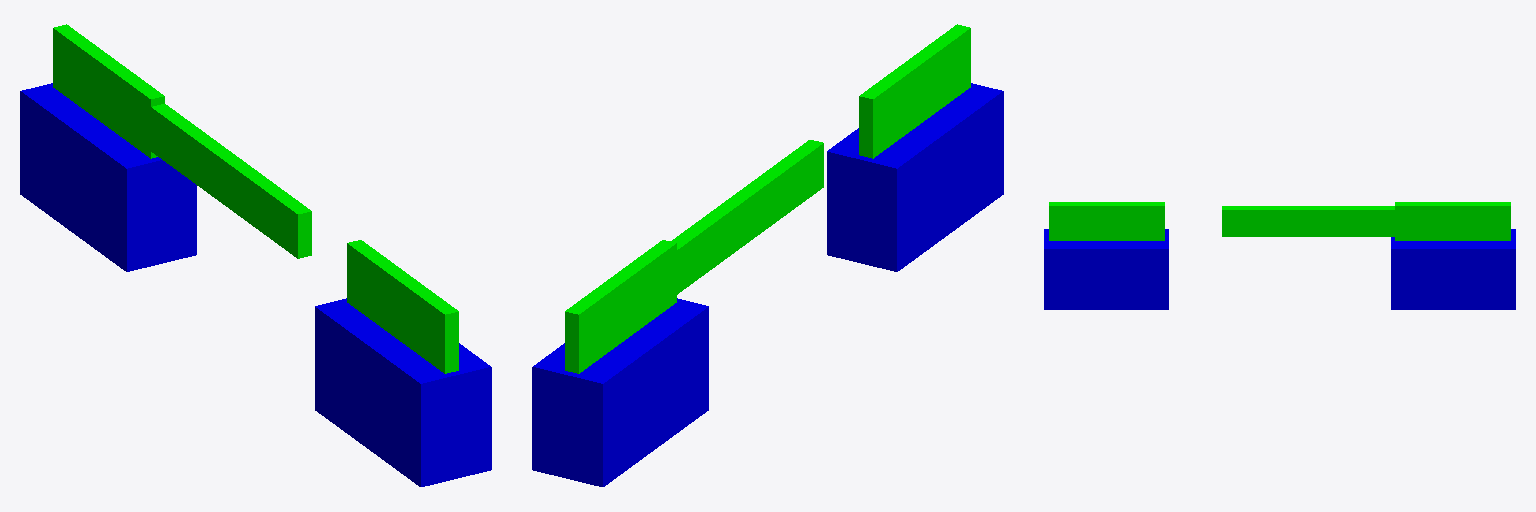
robot.urdf — robot:
<robot name = "robot">
    <link name="root">
        <inertial>
            <origin xyz="0.0 0.0 1.5" rpy="0 0 0"/>
            <mass value="1" />
            <inertia ixx="100" ixy="0" ixz="0" iyy="100" iyz="0" izz="100" />
        </inertial>
        <visual>
            <origin xyz="0.0 0.0 1.5" rpy="0 0 0"/>
            <geometry>
                <box size="0 0 0.0001" />
            </geometry>
            <material name="Green">
                <color rgba="0 1.0 0.0 1.0"/>
            </material>
        </visual>
        <collision>
            <origin xyz="0.0 0.0 1.5" rpy="0 0 0"/>
            <geometry>
                <box size="0 0 0.0001" />
            </geometry>
        </collision>
    </link>
    <joint name="root_000" type="revolute">
       <parent link="root"/>
       <child  link="000"/>
       <origin rpy="0 0 0" xyz="0.0 0.0 1.5" />
     <axis xyz="1 0 0"/>
       <limit effort="0.0" lower="-3.14159" upper="3.14159" velocity="0.0"/>
    </joint>
    <link name="000">
        <inertial>
            <origin xyz="0.0 0.3 0.0" rpy="0 0 0"/>
            <mass value="1" />
            <inertia ixx="100" ixy="0" ixz="0" iyy="100" iyz="0" izz="100" />
        </inertial>
        <visual>
            <origin xyz="0.0 0.3 0.0" rpy="0 0 0"/>
            <geometry>
                <box size="0.1 0.6 0.3" />
            </geometry>
            <material name="Green">
                <color rgba="0 1.0 0.0 1.0"/>
            </material>
        </visual>
        <collision>
            <origin xyz="0.0 0.3 0.0" rpy="0 0 0"/>
            <geometry>
                <box size="0.1 0.6 0.3" />
            </geometry>
        </collision>
    </link>
    <joint name="000_010" type="revolute">
       <parent link="000"/>
       <child  link="010"/>
       <origin rpy="0 0 0" xyz="0.0 0.6 -0.0" />
     <axis xyz="0 1 0"/>
       <limit effort="0.0" lower="-3.14159" upper="3.14159" velocity="0.0"/>
    </joint>
    <link name="010">
        <inertial>
            <origin xyz="0.0 0.3 -0.0" rpy="0 0 0"/>
            <mass value="1" />
            <inertia ixx="100" ixy="0" ixz="0" iyy="100" iyz="0" izz="100" />
        </inertial>
        <visual>
            <origin xyz="0.0 0.3 -0.0" rpy="0 0 0"/>
            <geometry>
                <box size="0.1 0.6 0.3" />
            </geometry>
            <material name="Green">
                <color rgba="0 1.0 0.0 1.0"/>
            </material>
        </visual>
        <collision>
            <origin xyz="0.0 0.3 -0.0" rpy="0 0 0"/>
            <geometry>
                <box size="0.1 0.6 0.3" />
            </geometry>
        </collision>
    </link>
    <joint name="010_020" type="revolute">
       <parent link="010"/>
       <child  link="020"/>
       <origin rpy="0 0 0" xyz="0.0 0.6 -0.0" />
     <axis xyz="0 1 0"/>
       <limit effort="0.0" lower="-3.14159" upper="3.14159" velocity="0.0"/>
    </joint>
    <link name="020">
        <inertial>
            <origin xyz="0.0 0.3 -0.0" rpy="0 0 0"/>
            <mass value="1" />
            <inertia ixx="100" ixy="0" ixz="0" iyy="100" iyz="0" izz="100" />
        </inertial>
        <visual>
            <origin xyz="0.0 0.3 -0.0" rpy="0 0 0"/>
            <geometry>
                <box size="0.1 0.6 0.3" />
            </geometry>
            <material name="Green">
                <color rgba="0 1.0 0.0 1.0"/>
            </material>
        </visual>
        <collision>
            <origin xyz="0.0 0.3 -0.0" rpy="0 0 0"/>
            <geometry>
                <box size="0.1 0.6 0.3" />
            </geometry>
        </collision>
    </link>
    <joint name="020_020-100" type="revolute">
       <parent link="020"/>
       <child  link="020-100"/>
       <origin rpy="0 0 0" xyz="0.0 0.6 -0.0" />
     <axis xyz="0 1 0"/>
       <limit effort="0.0" lower="-3.14159" upper="3.14159" velocity="0.0"/>
    </joint>
    <link name="020-100">
        <inertial>
            <origin xyz="0.0 0.3 -0.0" rpy="0 0 0"/>
            <mass value="1" />
            <inertia ixx="100" ixy="0" ixz="0" iyy="100" iyz="0" izz="100" />
        </inertial>
        <visual>
            <origin xyz="0.0 0.3 -0.0" rpy="0 0 0"/>
            <geometry>
                <box size="0.1 0.6 0.4" />
            </geometry>
            <material name="Green">
                <color rgba="0 1.0 0.0 1.0"/>
            </material>
        </visual>
        <collision>
            <origin xyz="0.0 0.3 -0.0" rpy="0 0 0"/>
            <geometry>
                <box size="0.1 0.6 0.4" />
            </geometry>
        </collision>
    </link>
    <joint name="020-100_020-110" type="revolute">
       <parent link="020-100"/>
       <child  link="020-110"/>
       <origin rpy="0 0 0" xyz="0.0 0.6 -0.0" />
     <axis xyz="0 1 0"/>
       <limit effort="0.0" lower="-3.14159" upper="3.14159" velocity="0.0"/>
    </joint>
    <link name="020-110">
        <inertial>
            <origin xyz="0.0 0.3 -0.0" rpy="0 0 0"/>
            <mass value="1" />
            <inertia ixx="100" ixy="0" ixz="0" iyy="100" iyz="0" izz="100" />
        </inertial>
        <visual>
            <origin xyz="0.0 0.3 -0.0" rpy="0 0 0"/>
            <geometry>
                <box size="0.1 0.6 0.4" />
            </geometry>
            <material name="Green">
                <color rgba="0 1.0 0.0 1.0"/>
            </material>
        </visual>
        <collision>
            <origin xyz="0.0 0.3 -0.0" rpy="0 0 0"/>
            <geometry>
                <box size="0.1 0.6 0.4" />
            </geometry>
        </collision>
    </link>
    <joint name="020-110_020-110-200" type="revolute">
       <parent link="020-110"/>
       <child  link="020-110-200"/>
       <origin rpy="0 0 0" xyz="0.0 0.3 -0.2" />
     <axis xyz="0 0 1"/>
       <limit effort="0.0" lower="-3.14159" upper="3.14159" velocity="0.0"/>
    </joint>
    <link name="020-110-200">
        <inertial>
            <origin xyz="0.0 0.0 -0.35" rpy="0 0 0"/>
            <mass value="1" />
            <inertia ixx="100" ixy="0" ixz="0" iyy="100" iyz="0" izz="100" />
        </inertial>
        <visual>
            <origin xyz="0.0 0.0 -0.35" rpy="0 0 0"/>
            <geometry>
                <box size="0.5 0.7 0.7" />
            </geometry>
            <material name="Blue">
                <color rgba="0 0.0 1.0 1.0"/>
            </material>
        </visual>
        <collision>
            <origin xyz="0.0 0.0 -0.35" rpy="0 0 0"/>
            <geometry>
                <box size="0.5 0.7 0.7" />
            </geometry>
        </collision>
    </link>
    <joint name="020-100_020-100-200" type="revolute">
       <parent link="020-100"/>
       <child  link="020-100-200"/>
       <origin rpy="0 0 0" xyz="0.0 0.3 -0.2" />
     <axis xyz="0 0 1"/>
       <limit effort="0.0" lower="-3.14159" upper="3.14159" velocity="0.0"/>
    </joint>
    <link name="020-100-200">
        <inertial>
            <origin xyz="0.0 0.0 -0.35" rpy="0 0 0"/>
            <mass value="1" />
            <inertia ixx="100" ixy="0" ixz="0" iyy="100" iyz="0" izz="100" />
        </inertial>
        <visual>
            <origin xyz="0.0 0.0 -0.35" rpy="0 0 0"/>
            <geometry>
                <box size="0.5 0.7 0.7" />
            </geometry>
            <material name="Blue">
                <color rgba="0 0.0 1.0 1.0"/>
            </material>
        </visual>
        <collision>
            <origin xyz="0.0 0.0 -0.35" rpy="0 0 0"/>
            <geometry>
                <box size="0.5 0.7 0.7" />
            </geometry>
        </collision>
    </link>
    <joint name="000_000-101" type="revolute">
       <parent link="000"/>
       <child  link="000-101"/>
       <origin rpy="0 0 0" xyz="0.0 -0.6 -0.0" />
     <axis xyz="0 1 0"/>
       <limit effort="0.0" lower="-3.14159" upper="3.14159" velocity="0.0"/>
    </joint>
    <link name="000-101">
        <inertial>
            <origin xyz="0.0 -0.3 -0.0" rpy="0 0 0"/>
            <mass value="1" />
            <inertia ixx="100" ixy="0" ixz="0" iyy="100" iyz="0" izz="100" />
        </inertial>
        <visual>
            <origin xyz="0.0 -0.3 -0.0" rpy="0 0 0"/>
            <geometry>
                <box size="0.1 0.6 0.4" />
            </geometry>
            <material name="Green">
                <color rgba="0 1.0 0.0 1.0"/>
            </material>
        </visual>
        <collision>
            <origin xyz="0.0 -0.3 -0.0" rpy="0 0 0"/>
            <geometry>
                <box size="0.1 0.6 0.4" />
            </geometry>
        </collision>
    </link>
    <joint name="000-101_000-111" type="revolute">
       <parent link="000-101"/>
       <child  link="000-111"/>
       <origin rpy="0 0 0" xyz="0.0 -0.6 -0.0" />
     <axis xyz="0 1 0"/>
       <limit effort="0.0" lower="-3.14159" upper="3.14159" velocity="0.0"/>
    </joint>
    <link name="000-111">
        <inertial>
            <origin xyz="0.0 -0.3 -0.0" rpy="0 0 0"/>
            <mass value="1" />
            <inertia ixx="100" ixy="0" ixz="0" iyy="100" iyz="0" izz="100" />
        </inertial>
        <visual>
            <origin xyz="0.0 -0.3 -0.0" rpy="0 0 0"/>
            <geometry>
                <box size="0.1 0.6 0.4" />
            </geometry>
            <material name="Green">
                <color rgba="0 1.0 0.0 1.0"/>
            </material>
        </visual>
        <collision>
            <origin xyz="0.0 -0.3 -0.0" rpy="0 0 0"/>
            <geometry>
                <box size="0.1 0.6 0.4" />
            </geometry>
        </collision>
    </link>
    <joint name="000-111_000-111-200" type="revolute">
       <parent link="000-111"/>
       <child  link="000-111-200"/>
       <origin rpy="0 0 0" xyz="0.0 -0.3 -0.2" />
     <axis xyz="0 0 1"/>
       <limit effort="0.0" lower="-3.14159" upper="3.14159" velocity="0.0"/>
    </joint>
    <link name="000-111-200">
        <inertial>
            <origin xyz="0.0 -0.0 -0.35" rpy="0 0 0"/>
            <mass value="1" />
            <inertia ixx="100" ixy="0" ixz="0" iyy="100" iyz="0" izz="100" />
        </inertial>
        <visual>
            <origin xyz="0.0 -0.0 -0.35" rpy="0 0 0"/>
            <geometry>
                <box size="0.5 0.7 0.7" />
            </geometry>
            <material name="Blue">
                <color rgba="0 0.0 1.0 1.0"/>
            </material>
        </visual>
        <collision>
            <origin xyz="0.0 -0.0 -0.35" rpy="0 0 0"/>
            <geometry>
                <box size="0.5 0.7 0.7" />
            </geometry>
        </collision>
    </link>
    <joint name="000-101_000-101-200" type="revolute">
       <parent link="000-101"/>
       <child  link="000-101-200"/>
       <origin rpy="0 0 0" xyz="0.0 -0.3 -0.2" />
     <axis xyz="0 0 1"/>
       <limit effort="0.0" lower="-3.14159" upper="3.14159" velocity="0.0"/>
    </joint>
    <link name="000-101-200">
        <inertial>
            <origin xyz="0.0 -0.0 -0.35" rpy="0 0 0"/>
            <mass value="1" />
            <inertia ixx="100" ixy="0" ixz="0" iyy="100" iyz="0" izz="100" />
        </inertial>
        <visual>
            <origin xyz="0.0 -0.0 -0.35" rpy="0 0 0"/>
            <geometry>
                <box size="0.5 0.7 0.7" />
            </geometry>
            <material name="Blue">
                <color rgba="0 0.0 1.0 1.0"/>
            </material>
        </visual>
        <collision>
            <origin xyz="0.0 -0.0 -0.35" rpy="0 0 0"/>
            <geometry>
                <box size="0.5 0.7 0.7" />
            </geometry>
        </collision>
    </link>
</robot>

--- What the picture shows (computed from the rendered views, not written in the file) ---
3 views of the same robot in one strip: view 1: azimuth 30°, elevation 25°; view 2: azimuth 150°, elevation 25°; view 3: azimuth 270°, elevation 25° (orthographic).
Robot: robot — 12 links, 11 joints (11 revolute); root link root; default pose: all joints at 0.
Links seen in each view (by area): view 1: [phone redacted] (×4), 000-111, 020-100, 020-110, 000-101, 000, 010, 020; view 2: [phone redacted] (×4), 020-110, 000-101, 000-111, 020-100, 000, 010, 020; view 3: [phone redacted] (×4), 020-100, 020-110, 000-101, 000-111, 000, 010, 020.
Boxes of the visible links, bbox=[...] form: [phone redacted] (×4): bbox=[20, 83, 491, 486]; 000-111: bbox=[396, 276, 458, 373]; 020-100: bbox=[102, 60, 164, 158]; 020-110: bbox=[53, 24, 114, 122]; 000-101: bbox=[347, 240, 409, 337]; 000: bbox=[249, 175, 311, 258]; 010: bbox=[200, 140, 261, 222]; 020: bbox=[151, 104, 213, 186]; [phone redacted] (×4): bbox=[532, 83, 1003, 486]; 020-110: bbox=[565, 276, 627, 373]; 000-101: bbox=[859, 60, 921, 158]; 000-111: bbox=[909, 24, 970, 122]; 020-100: bbox=[614, 240, 676, 337]; 000: bbox=[762, 140, 823, 222]; 010: bbox=[713, 175, 774, 258]; 020: bbox=[671, 211, 725, 294]; [phone redacted] (×4): bbox=[1044, 229, 1515, 309]; 020-100: bbox=[1395, 202, 1452, 240]; 020-110: bbox=[1453, 202, 1510, 240]; 000-101: bbox=[1107, 202, 1164, 240]; 000-111: bbox=[1049, 202, 1106, 240]; 000: bbox=[1222, 206, 1279, 236]; 010: bbox=[1280, 206, 1337, 236]; 020: bbox=[1338, 206, 1394, 236].
Bounding box of the posed robot: 0.5 × 4.9 × 1.1 m (x, y, z).
Geometry: primitives only (box / cylinder / sphere), no mesh files.
